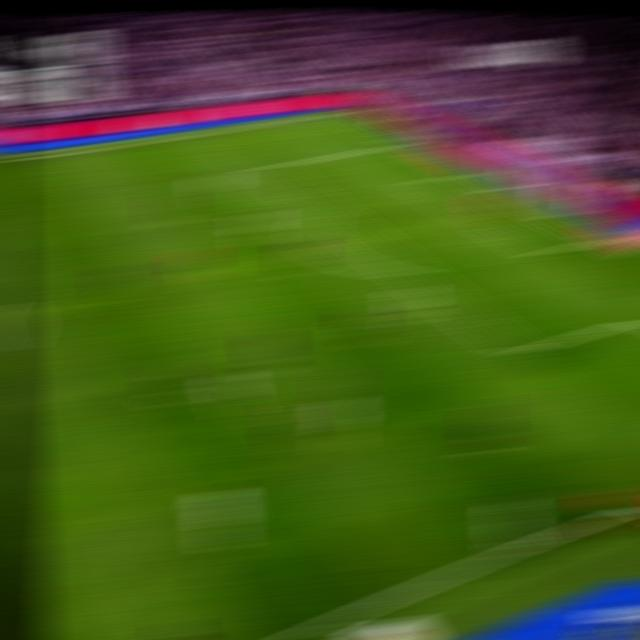bigarea_bottom_inner: (505, 342, 537, 362)
bigarea_top_inner: (252, 162, 278, 174)
bigarea_top_outter: (390, 136, 420, 146)
bottom_arc_area_intersection: (394, 264, 425, 279)
corner: (329, 106, 359, 114)
smallarea_bottom_inner: (533, 245, 563, 260)
smallarea_top_inner: (408, 178, 434, 186)
top_arc_area_intersection: (308, 203, 337, 216)
